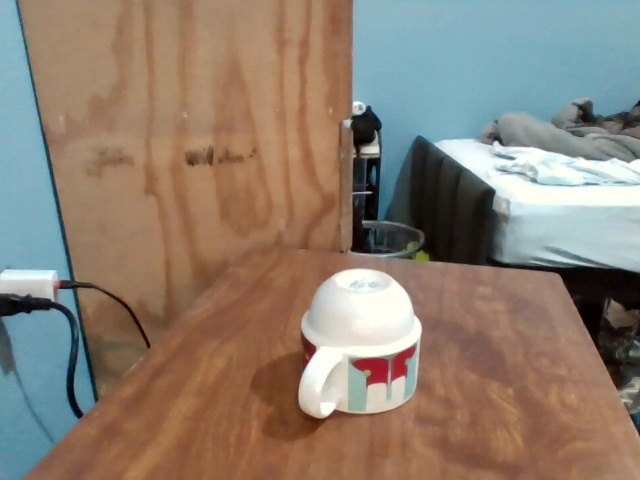taza: (297, 267, 422, 418)
